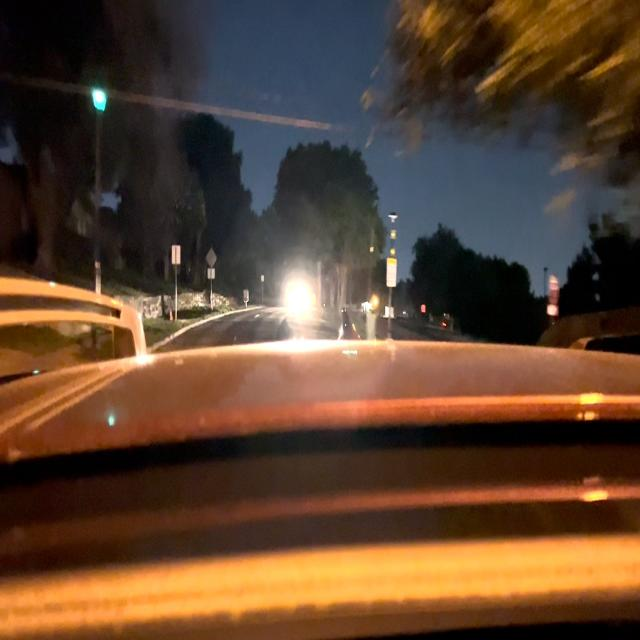back-of-sign: (205, 242, 217, 279), (172, 243, 180, 265)
